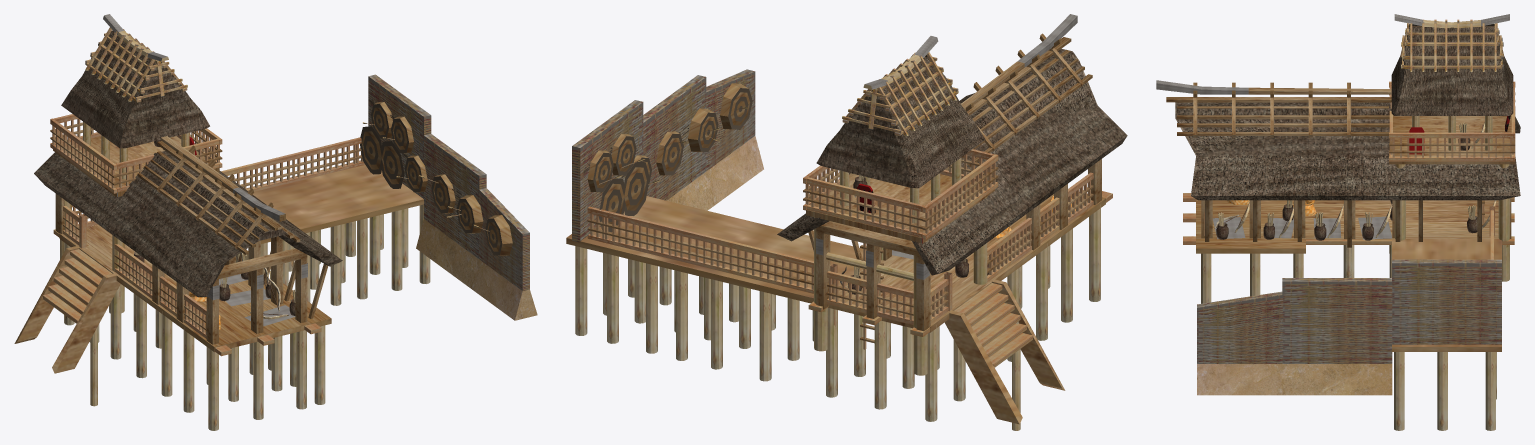
Rendered from yayoi_range.dae.
3 renders of one model, left to right at view 1: azimuth 30°, elevation 25°; view 2: azimuth 150°, elevation 25°; view 3: azimuth 270°, elevation 25°, orthographic. The views are drawn at different scales.
Parts seen in each view (by area): view 1: range; view 2: range; view 3: range.
Part boxes in pixels (x1,y1,x2,y2): range: [14, 14, 537, 430]; range: [566, 14, 1127, 430]; range: [1156, 14, 1520, 430].
Bounding box in the file's own units: 27.44 × 22.7 × 22.38.
Materials: 1 (1 with a texture image).
